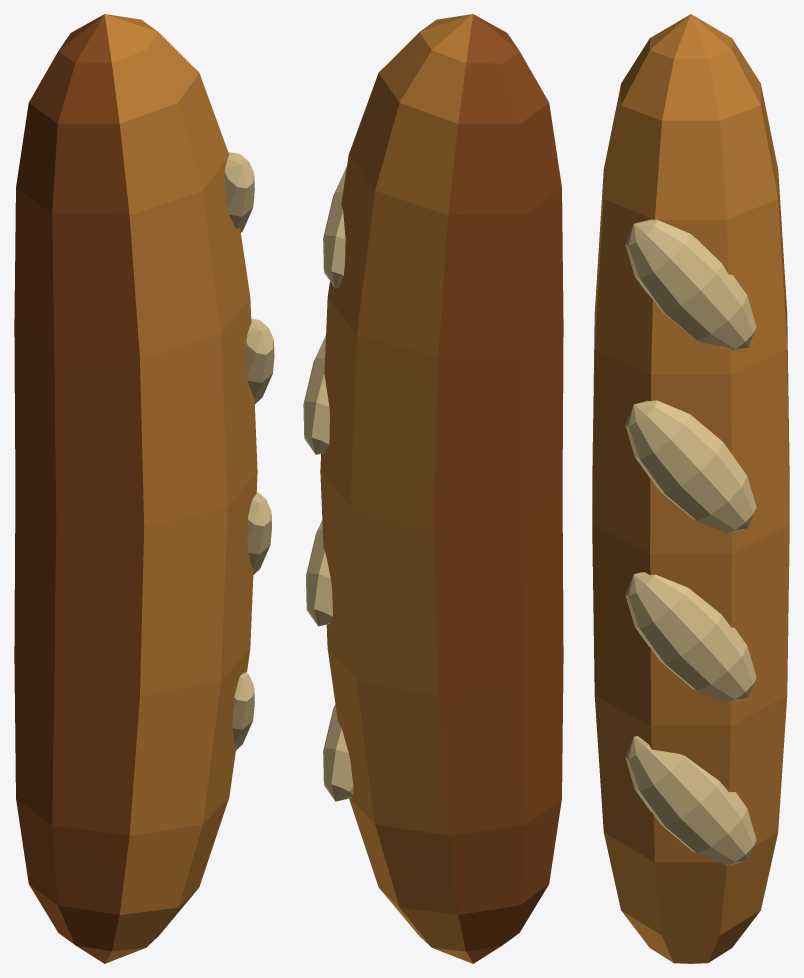
Rendered from Baguette.fbx.
The picture shows the model from 3 angles, left to right: view 1: azimuth 30°, elevation 25°; view 2: azimuth 150°, elevation 25°; view 3: azimuth 270°, elevation 25°; orthographic projection.
Visible parts, largest first — view 1: Baguette; view 2: Baguette; view 3: Baguette.
Part boxes in pixels (left/top/right/bottom): Baguette: left=14, top=14, right=274, bottom=963; Baguette: left=303, top=14, right=563, bottom=963; Baguette: left=592, top=14, right=789, bottom=963.
Size of the model in its own units: 0.2482 by 1 by 0.1885.
